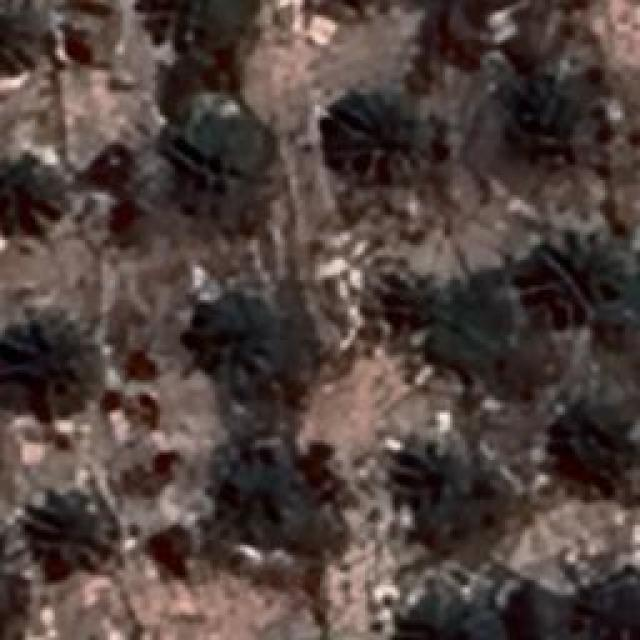PalmTree: (222, 445, 322, 553), (335, 88, 440, 182), (530, 228, 635, 322), (496, 70, 589, 176), (160, 101, 262, 189), (0, 302, 82, 399), (190, 295, 280, 383), (0, 142, 70, 248), (392, 436, 478, 522), (549, 397, 637, 479), (141, 0, 256, 57), (377, 264, 455, 344), (398, 587, 506, 640), (28, 504, 108, 558), (0, 0, 40, 88), (585, 580, 640, 640)
